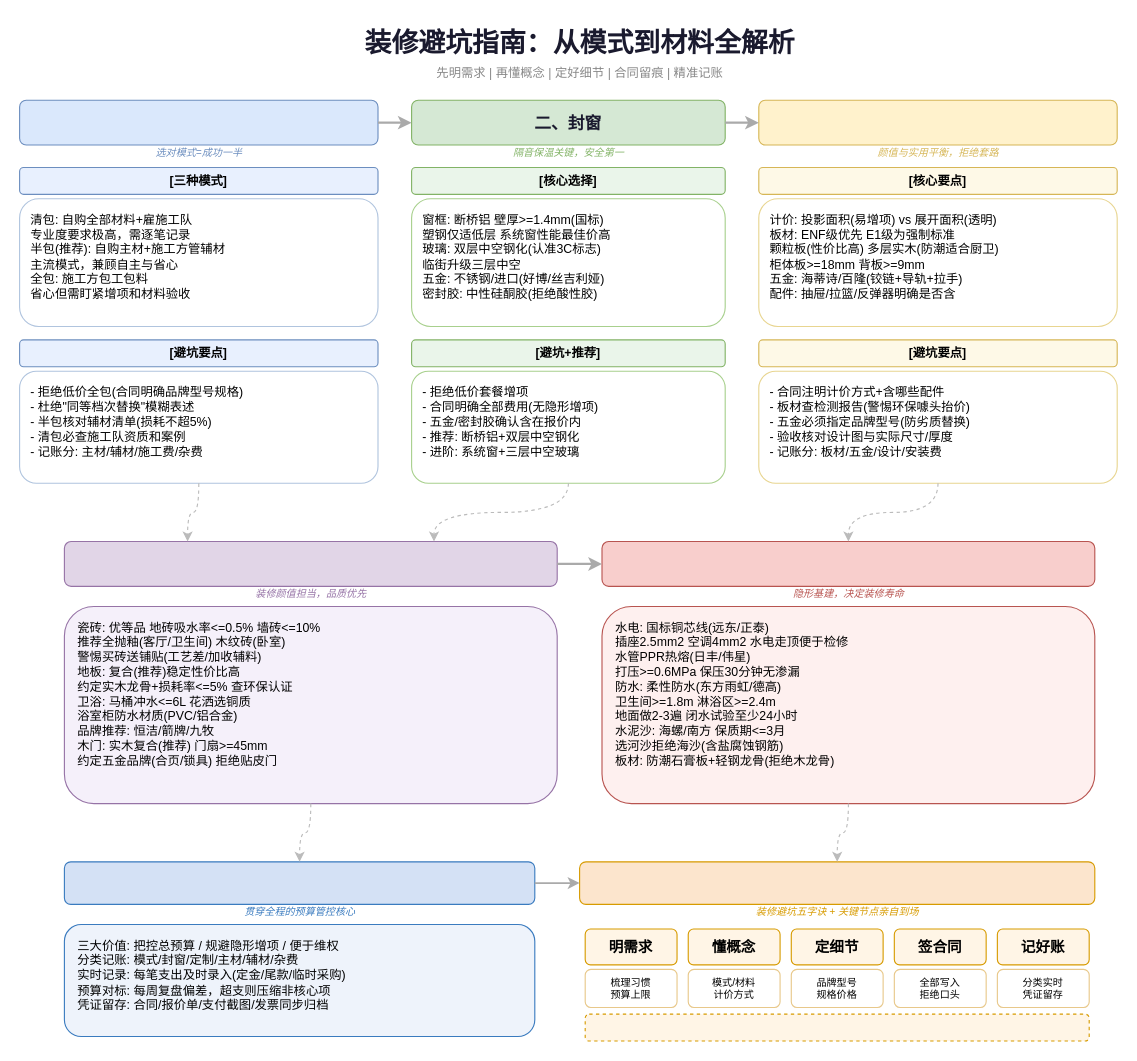
The diagram is 1137 pixels wide and 1061 high, and some of its shapes have lost their labels. Here are the shapes that lost their labels. From the top down, the centre of each, then its label:
At (x=198, y=122): "一、装修模式".
At (x=937, y=122): "三、全屋定制".
At (x=310, y=563): "四、主材".
At (x=848, y=563): "五、辅材".
At (x=299, y=882): "六、装修记账".
At (x=836, y=882): "七、核心原则".
At (x=836, y=1027): "关键节点务必亲自到场: 材料进场验收 / 隐蔽工程验收 / 竣工结算".
